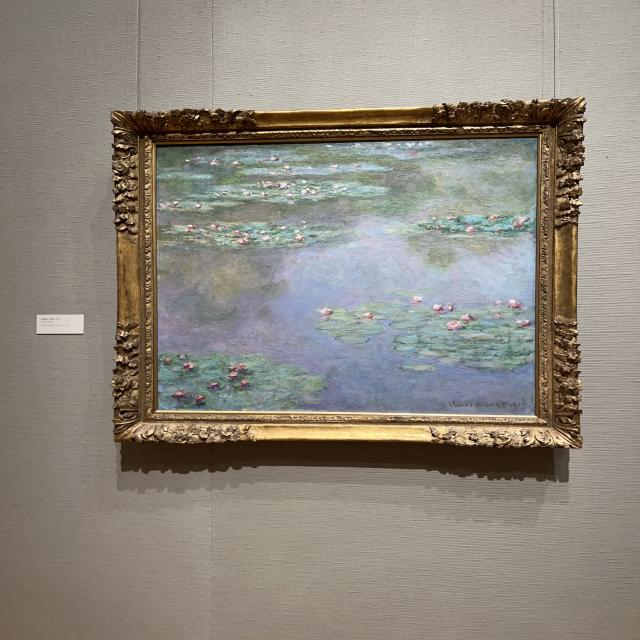lilies: (158, 141, 534, 414)
